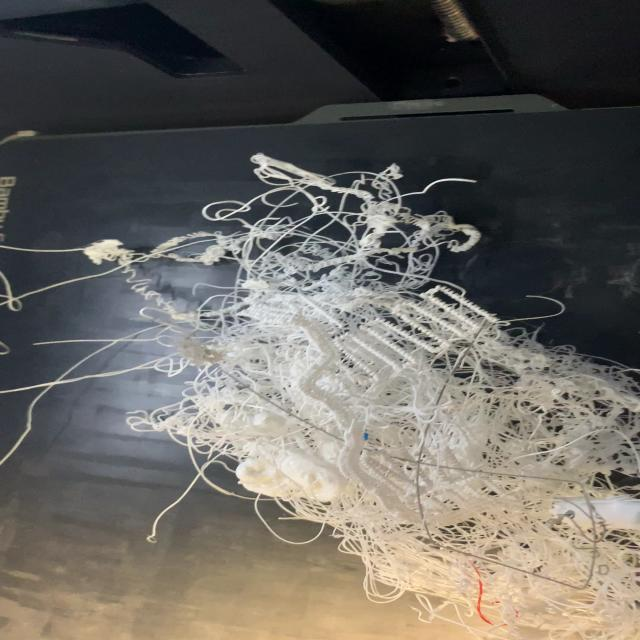spaghetti: (3, 151, 637, 636)
